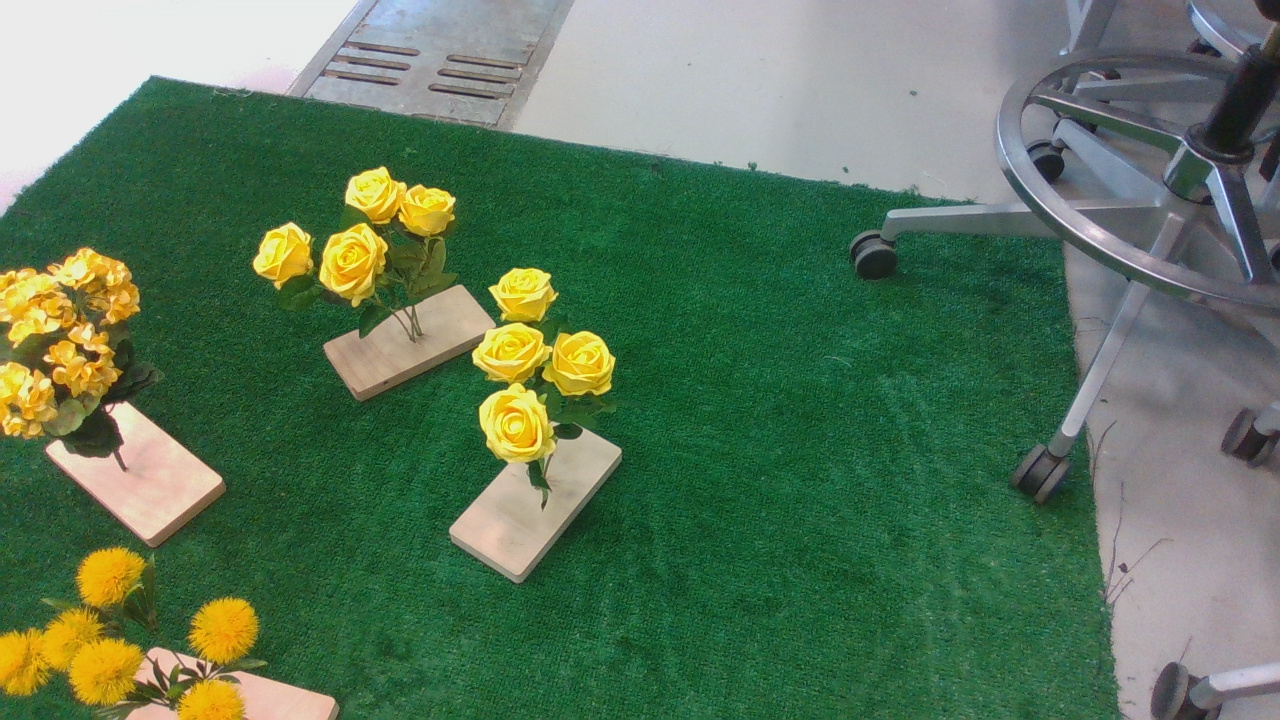dandelion: (4, 547, 295, 720)
geranium: (2, 254, 150, 486)
rose: (473, 271, 649, 505), (247, 166, 466, 348)
